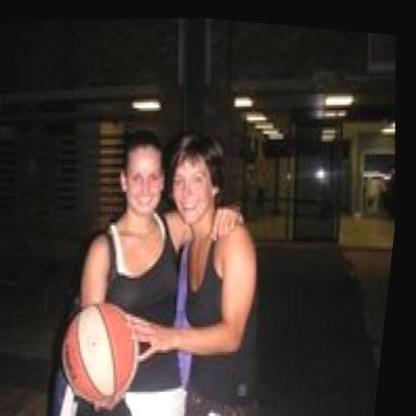basketball: (59, 296, 161, 407)
